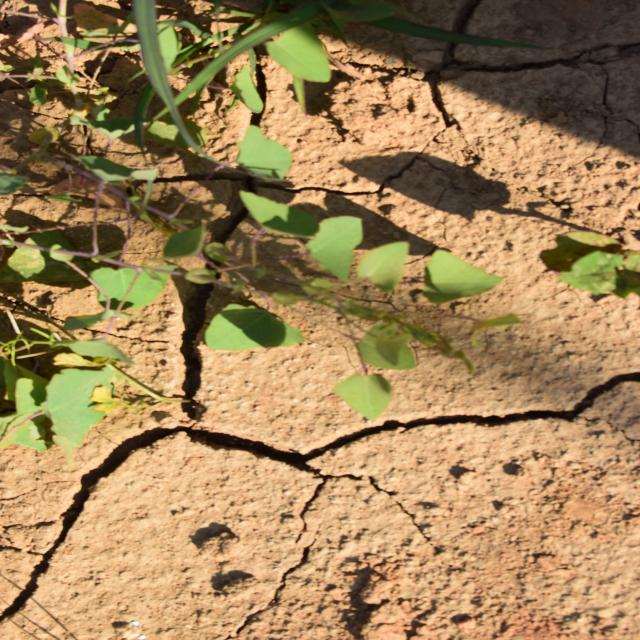Asiatic_Smartweed: (238, 210, 434, 512)
